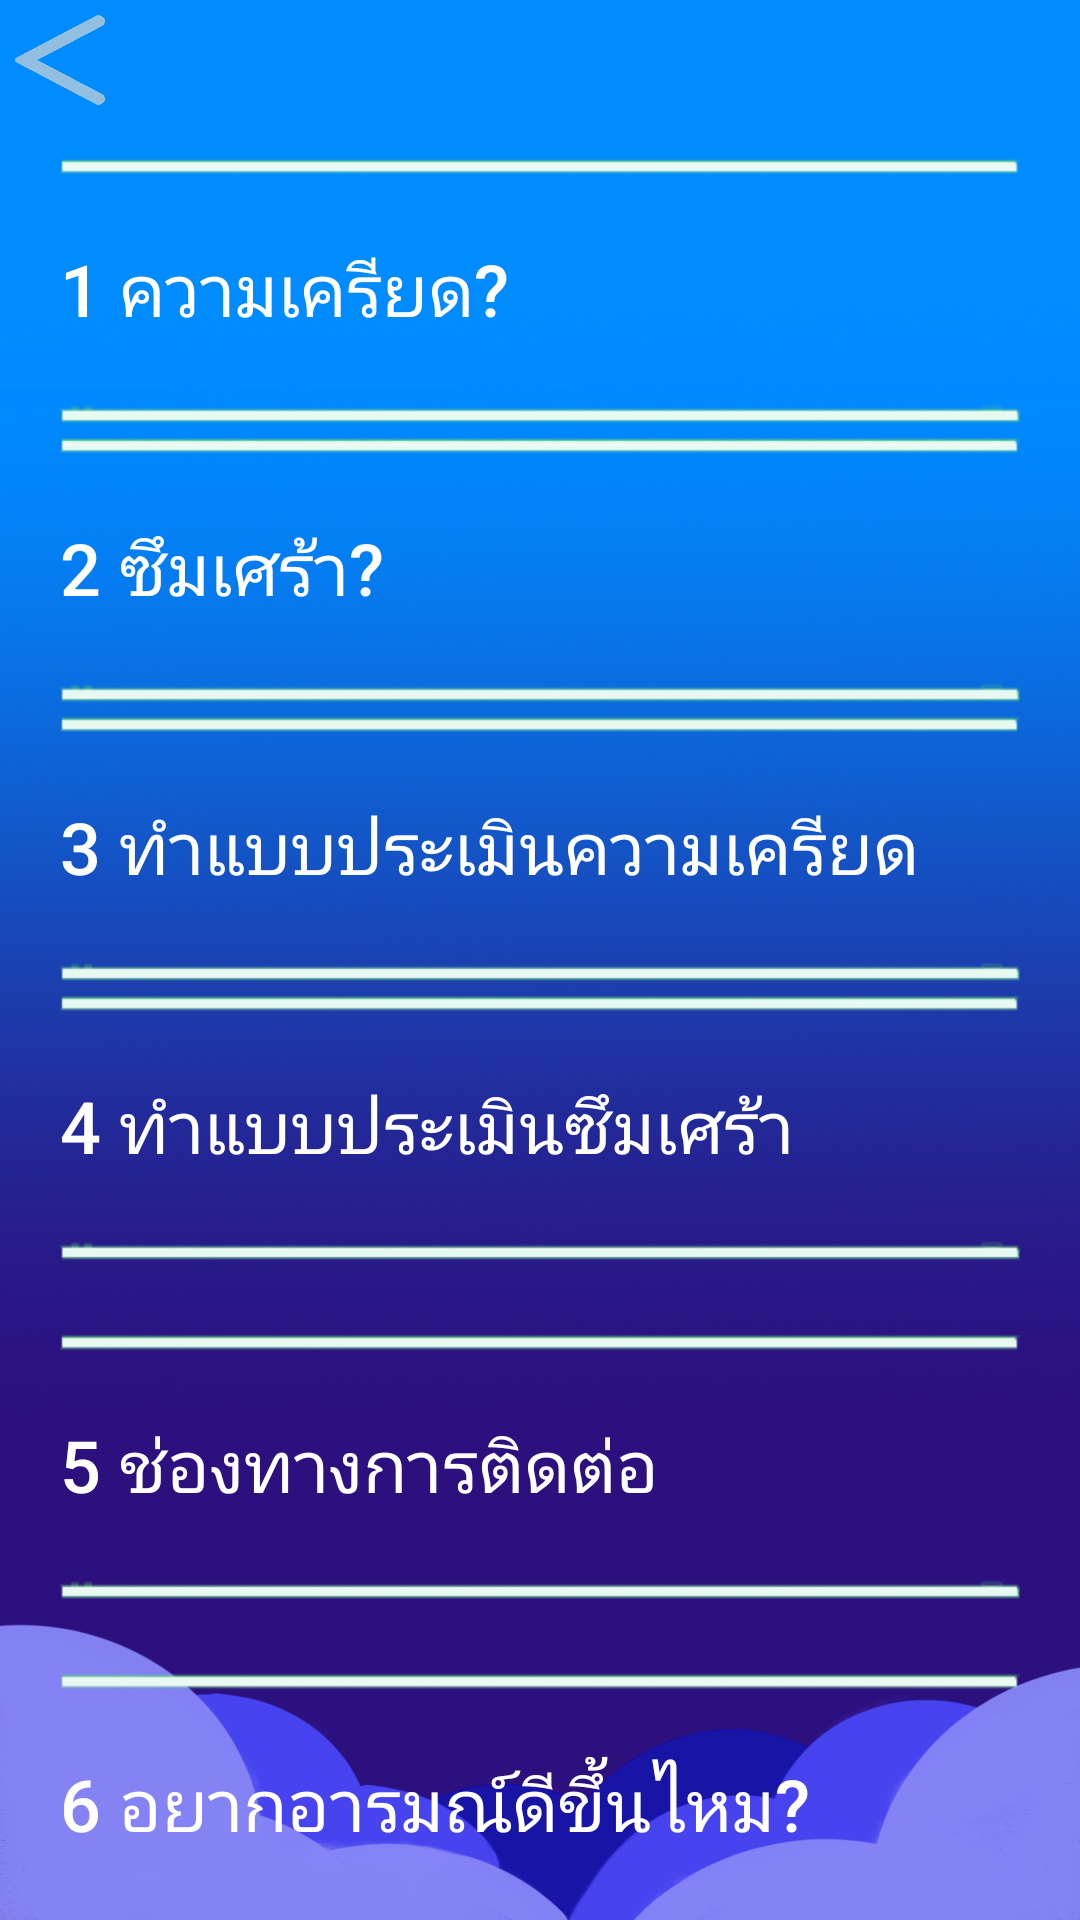

Named icons in this screenshot (1080x1920) and their centers, [x,y]:
backbut: [60,60]
